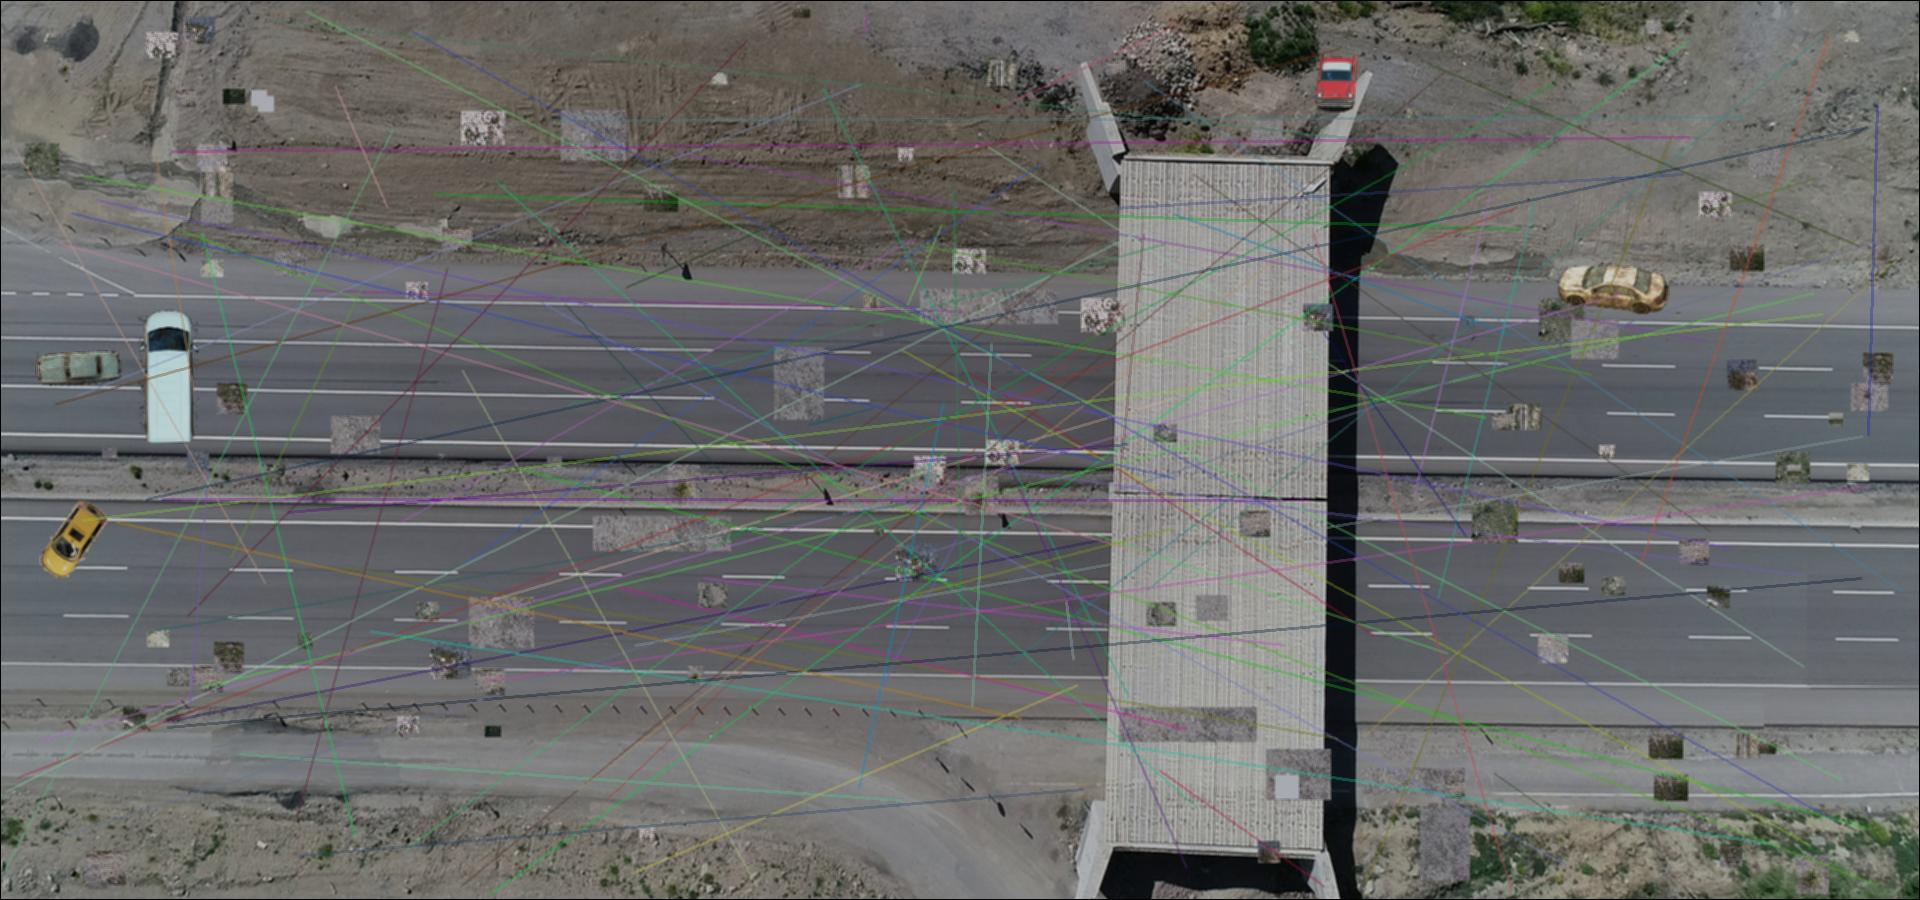arac: (138, 309, 200, 444), (1558, 261, 1671, 313), (38, 500, 110, 579), (32, 350, 125, 386), (1315, 54, 1359, 113)
